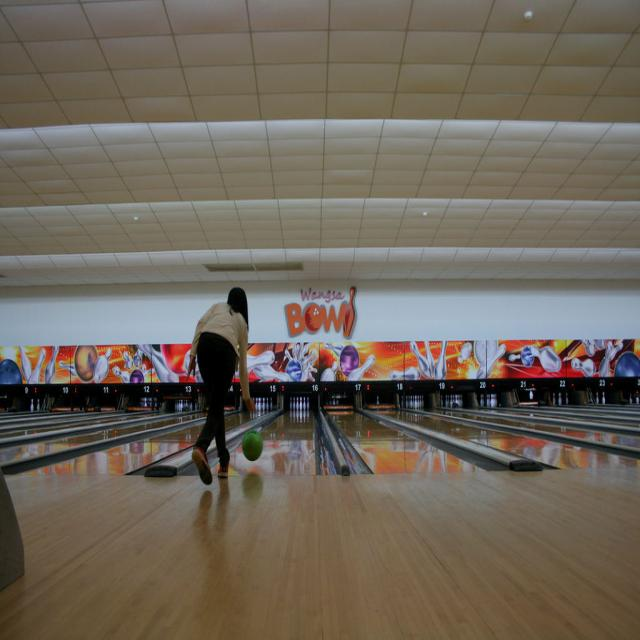Ball: (241, 429, 265, 464), (75, 343, 98, 379), (616, 350, 640, 378), (338, 346, 360, 374), (0, 361, 24, 385), (285, 358, 303, 380), (522, 349, 532, 368), (132, 369, 144, 383)
